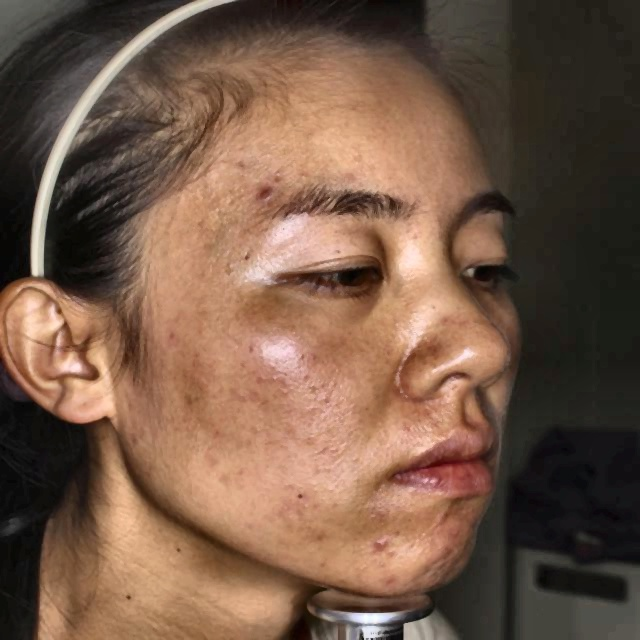comedone: (369, 530, 400, 549), (258, 177, 274, 204)
